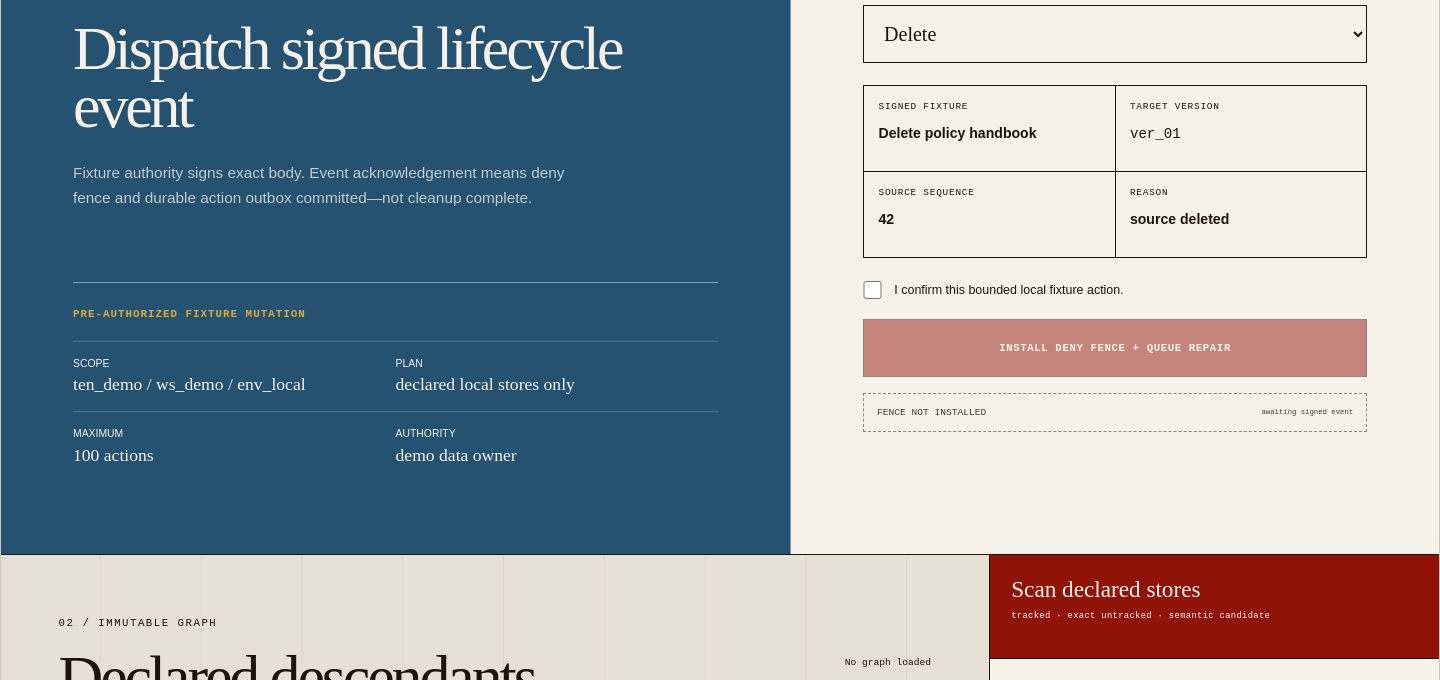
Lethe dashboard › sends exact signed event, polls run, scans, and verifies receipt
(page scrolled)
Expected: the text "Delete policy handbook" is shown, [878, 125, 1036, 141]
Click the checkbox labelled "I confirm this bounded local fixture action." at (872,290), box [863, 281, 882, 299]
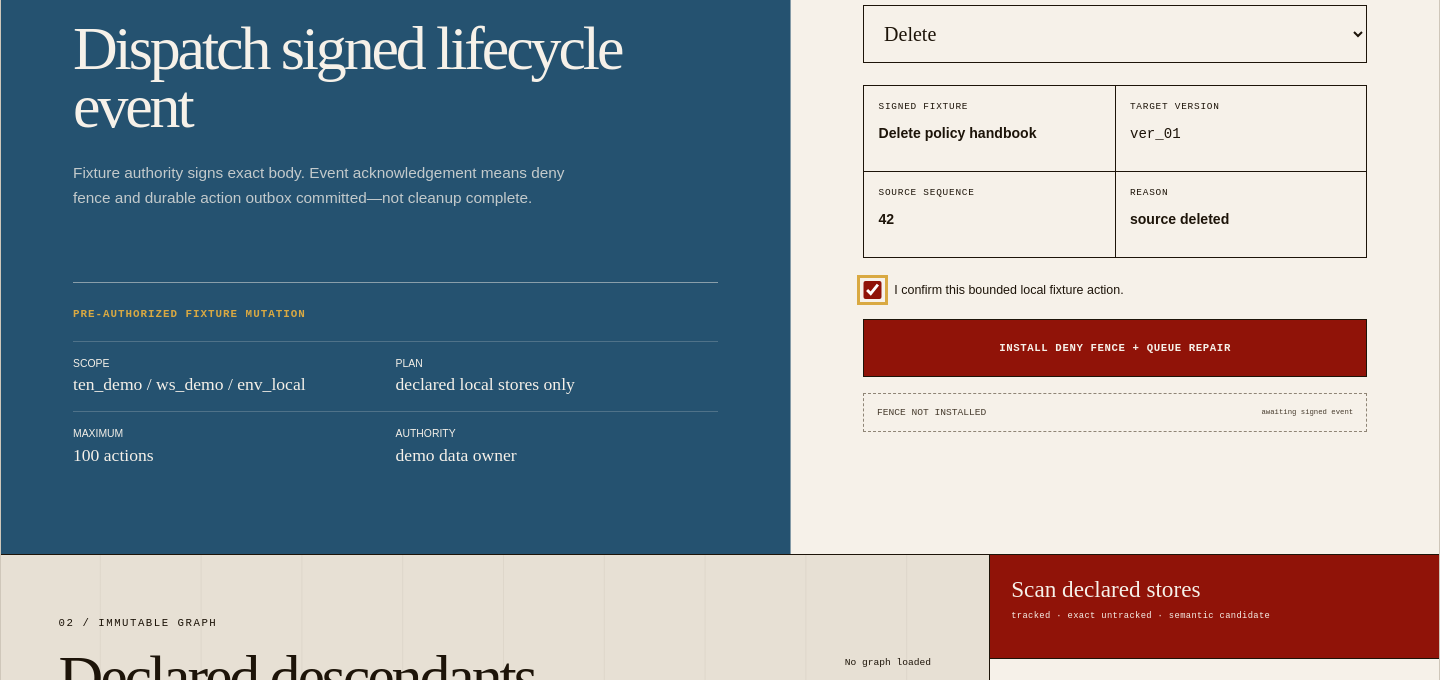
Click the button "Install deny fence + queue repair" at (1115,348), box [863, 319, 1367, 377]
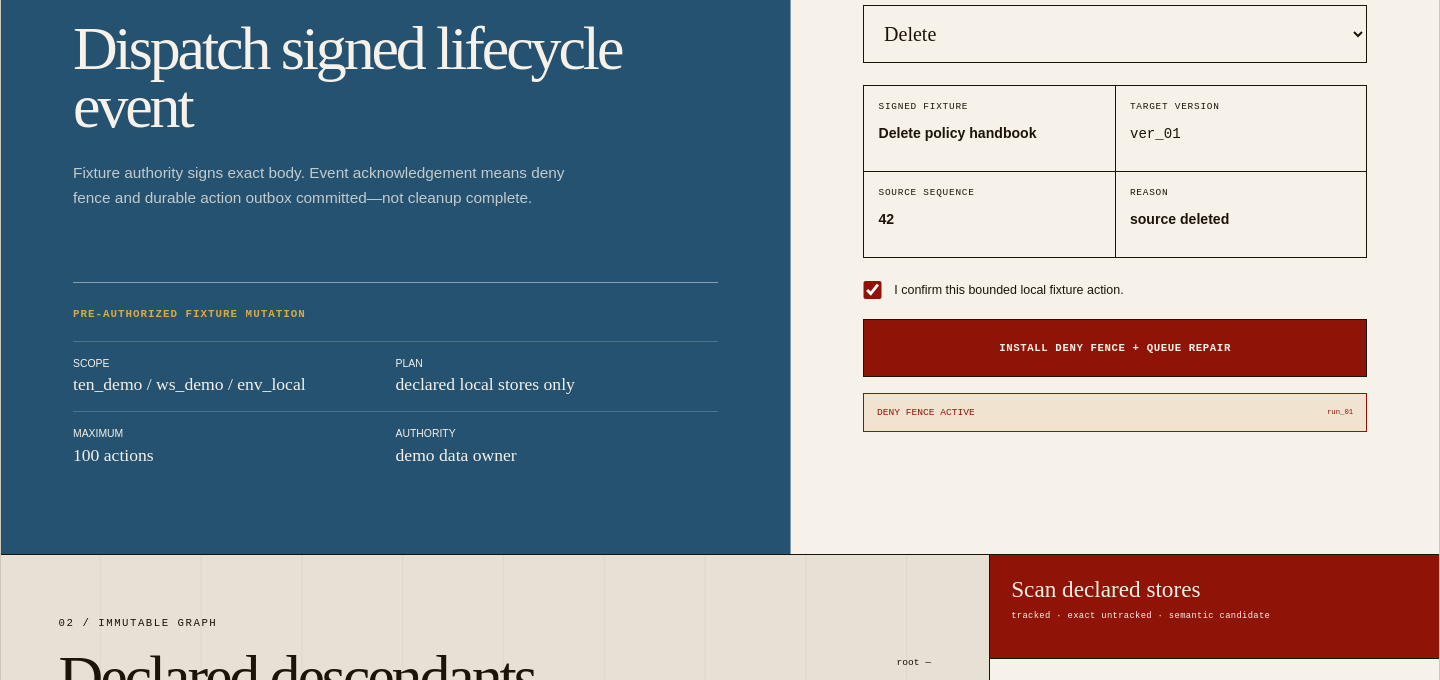
Expected: the text "DENY FENCE ACTIVE" is shown, [877, 407, 975, 418]
Click the button "Scan declared stores" at (1106,589), box [990, 555, 1439, 659]
(page scrolled)
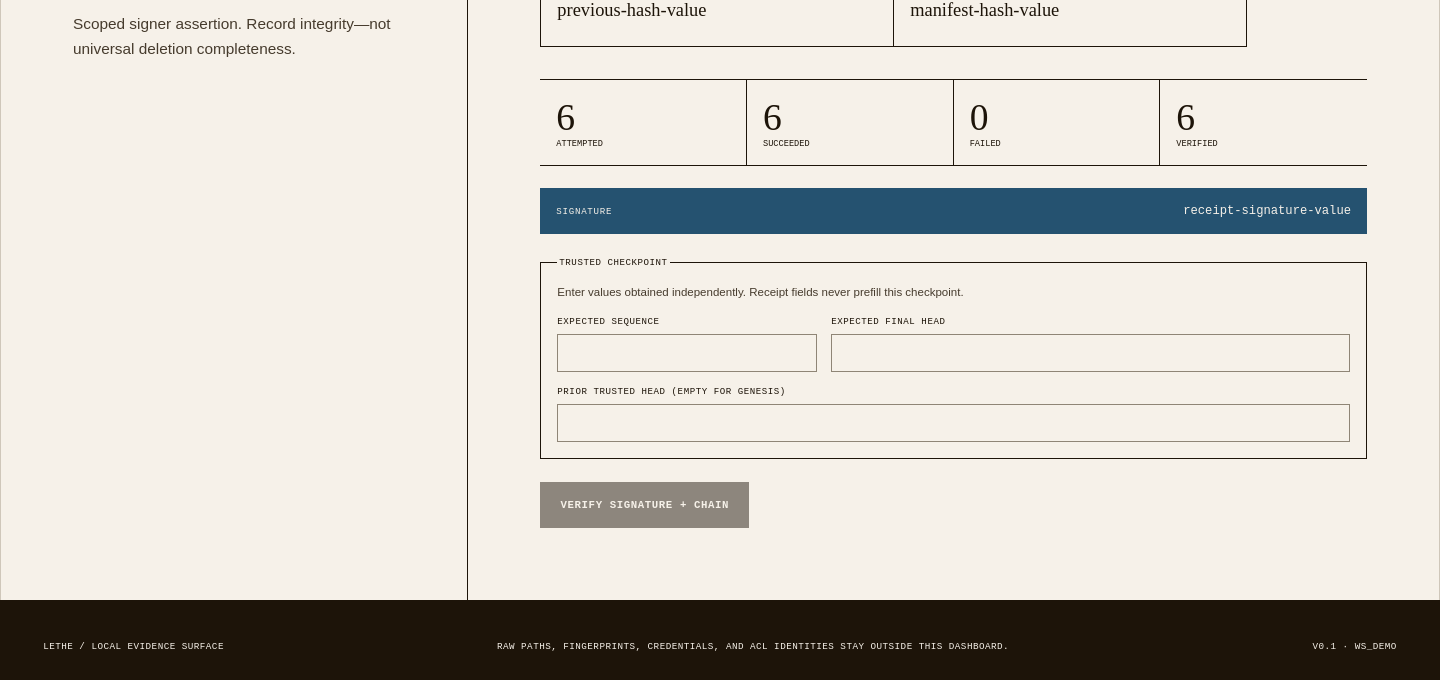
Type "7" into the number field labelled "Expected sequence" at (687,353), box [557, 334, 817, 372]
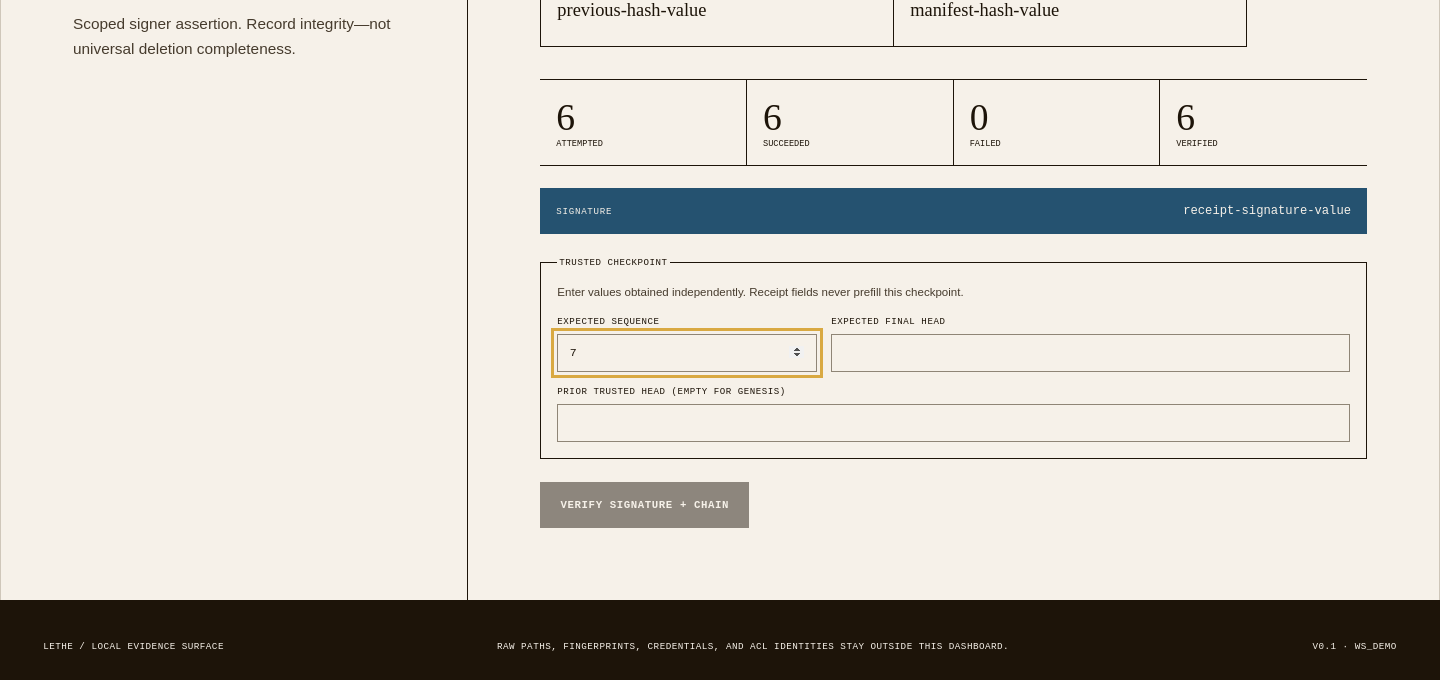
Type "trusted-final-head" into the field labelled "Expected final head" at (1091,353), box [831, 334, 1350, 372]
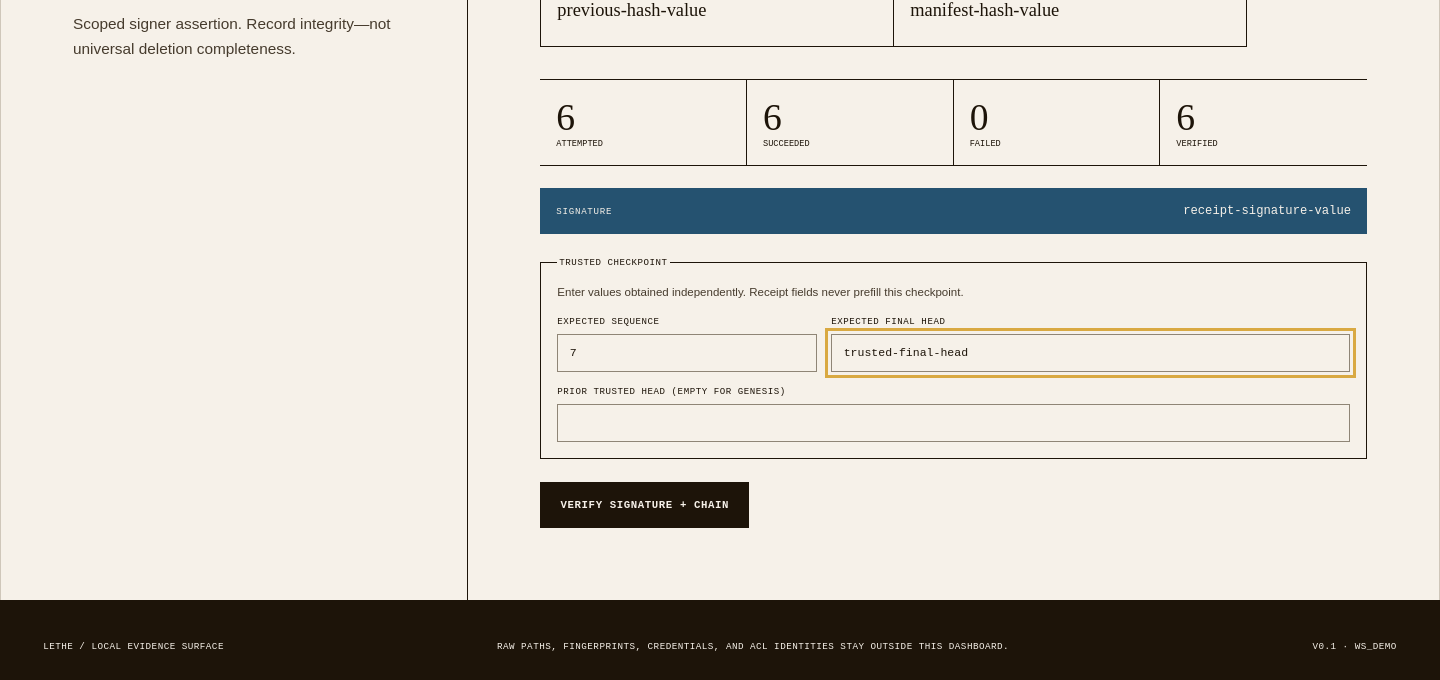
Expected: the field labelled "Prior trusted head (empty for genesis)" is empty, [557, 404, 1350, 442]
Click the button "Verify signature + chain" at (645,505), box [540, 482, 749, 528]
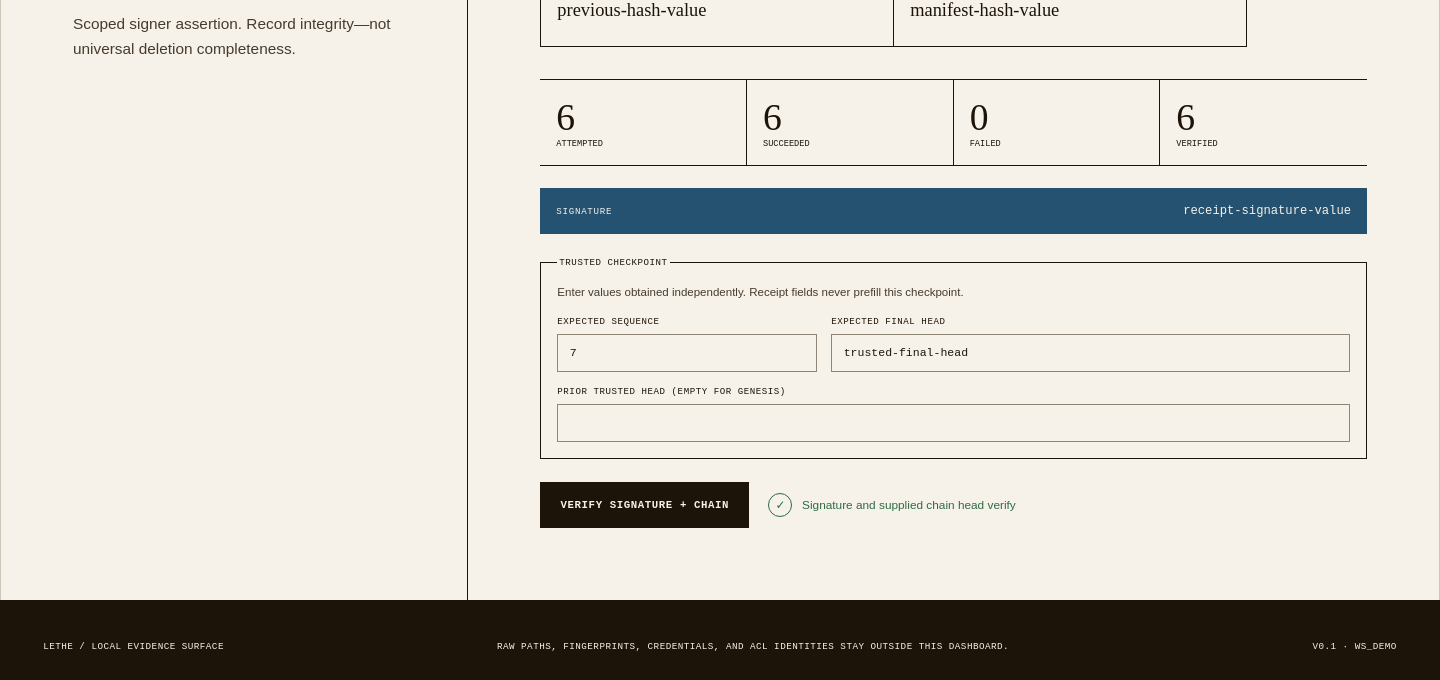
Expected: the text "Signature and supplied chain head verify" is shown, [802, 498, 1016, 512]
